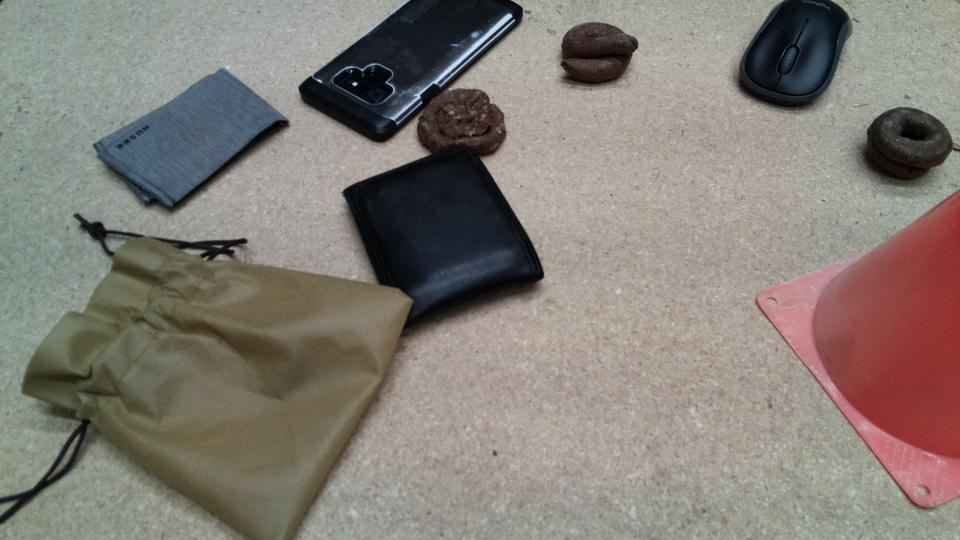poop: (863, 103, 955, 181), (415, 85, 509, 159), (558, 19, 642, 85)
